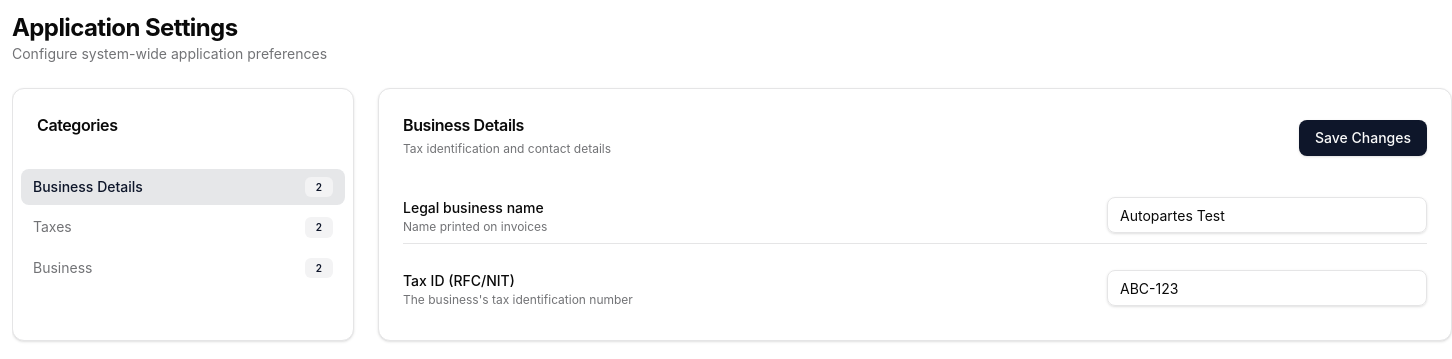
Scenario: AdminSettingsPage › renders a select control with parsed options
Expected: the field showing "Autopartes Test" in the row of "Name printed on invoices" is shown, [1107,197,1427,233]
Click the text "Taxes" at (52, 227), box [33,217,72,237]
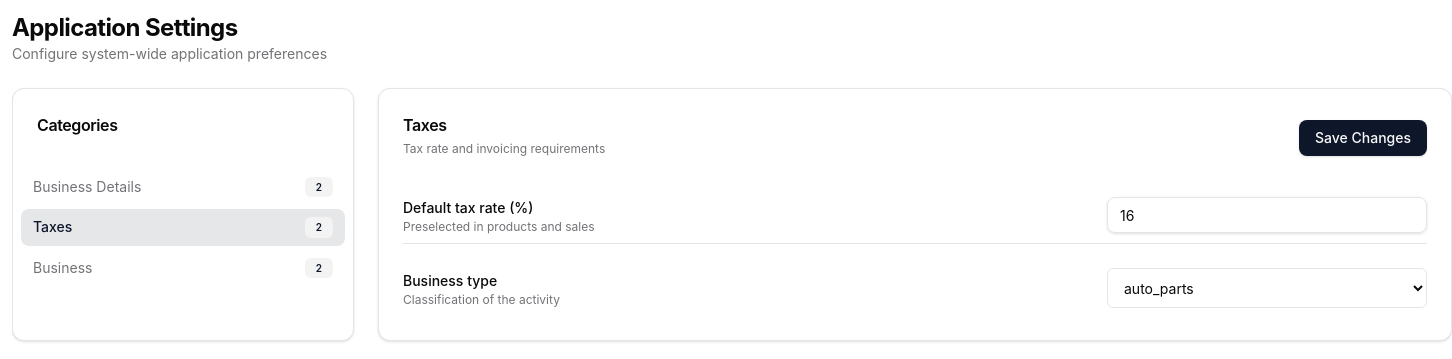
Expected: the number field showing "16" is shown, [1107,197,1427,233]
